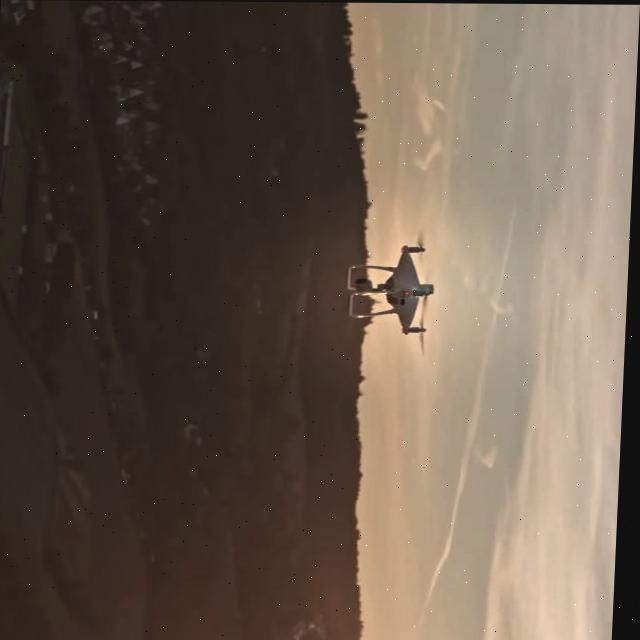drone: (344, 224, 442, 357)
